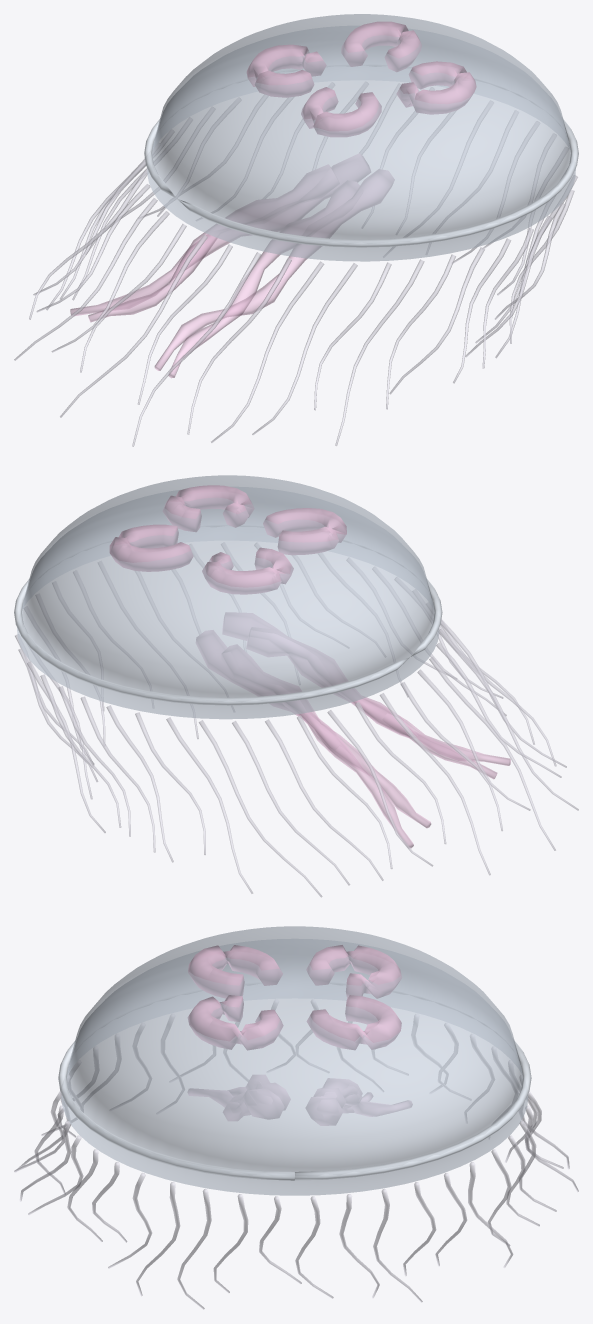
File: jellyfish.glb
3 views of the same model, one above another, from view 1: azimuth 30°, elevation 25°; view 2: azimuth 150°, elevation 25°; view 3: azimuth 270°, elevation 25° (orthographic). The views are drawn at different scales.
Parts seen in each view (by area): view 1: Bell, Tentacles, Oral arms, Gonads, Rim; view 2: Bell, Tentacles, Oral arms, Gonads, Rim; view 3: Bell, Tentacles, Gonads, Rim, Oral arms.
Boxes of the visible parts, left/top/right/bottom form: Bell: left=147, top=14, right=575, bottom=261; Tentacles: left=14, top=82, right=577, bottom=446; Oral arms: left=70, top=153, right=394, bottom=378; Gonads: left=246, top=21, right=476, bottom=136; Rim: left=144, top=65, right=578, bottom=247; Bell: left=17, top=475, right=439, bottom=719; Tentacles: left=15, top=542, right=578, bottom=897; Oral arms: left=196, top=612, right=510, bottom=848; Gonads: left=109, top=485, right=346, bottom=594; Rim: left=14, top=525, right=442, bottom=705; Bell: left=61, top=926, right=528, bottom=1195; Tentacles: left=14, top=999, right=578, bottom=1309; Gonads: left=188, top=945, right=401, bottom=1050; Rim: left=58, top=983, right=531, bottom=1180; Oral arms: left=188, top=1075, right=412, bottom=1125.
Size of the model in its own units: 2.04 by 1.09 by 1.81.
